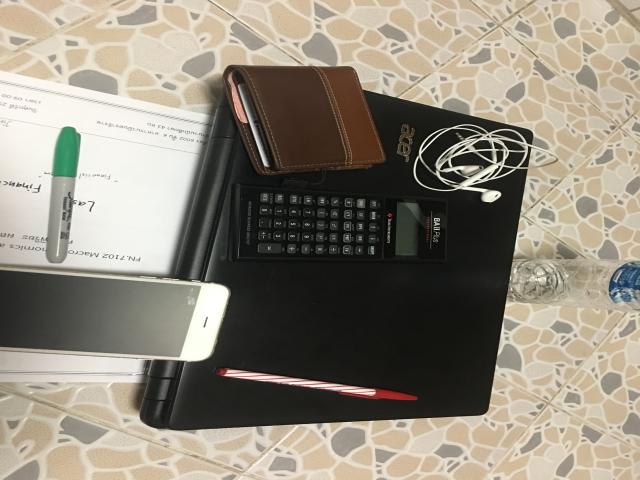Mobile phone: (0, 267, 230, 361)
Pen: (217, 368, 417, 400), (45, 127, 80, 263)
Wallet: (223, 65, 385, 175)
bottle: (507, 259, 640, 311)
paper: (0, 72, 212, 382)
wire: (413, 124, 558, 202)
